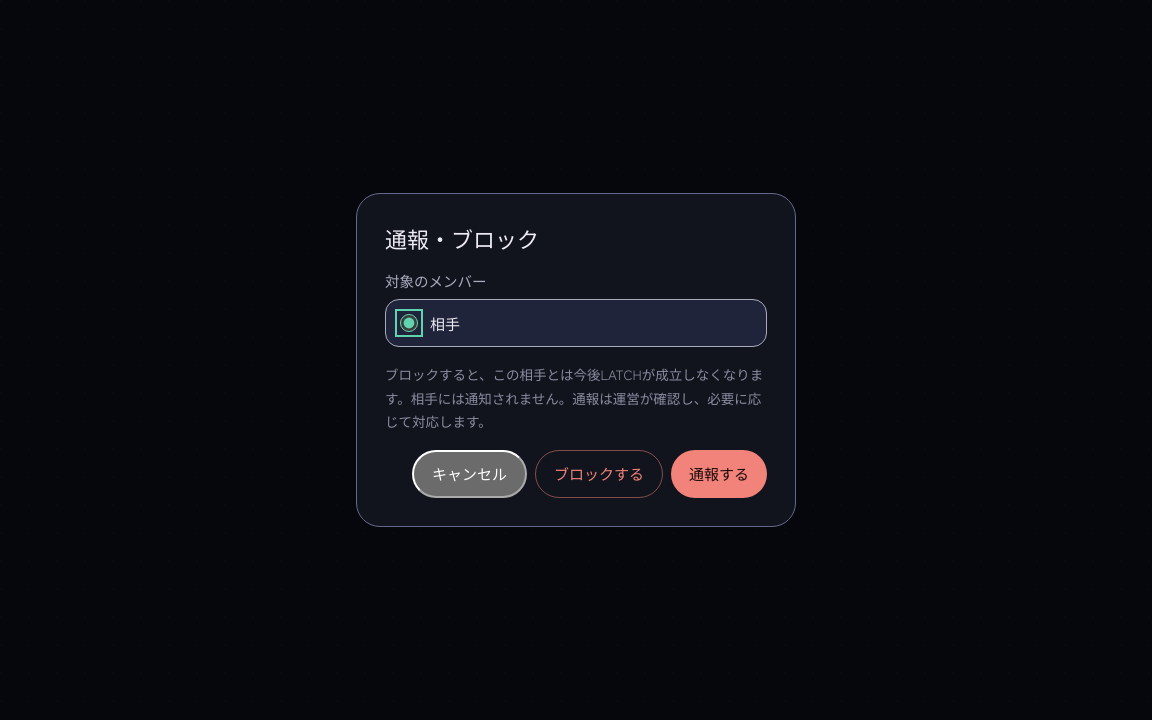
Scenario: 通報・ブロック統合dialog(D-09・プロトタイプ05) › 成立済み1対1: 対象は相手で選択済み・ブロックでPOST /v1/users/{id}/block
Expected: the heading "通報・ブロック" is shown, [385, 228, 539, 253]
Expected: the dialog with id "safetyDialog" shows "相手", [430, 313, 460, 334]
Click the button "ブロックする" at (599, 474), box [535, 450, 663, 498]
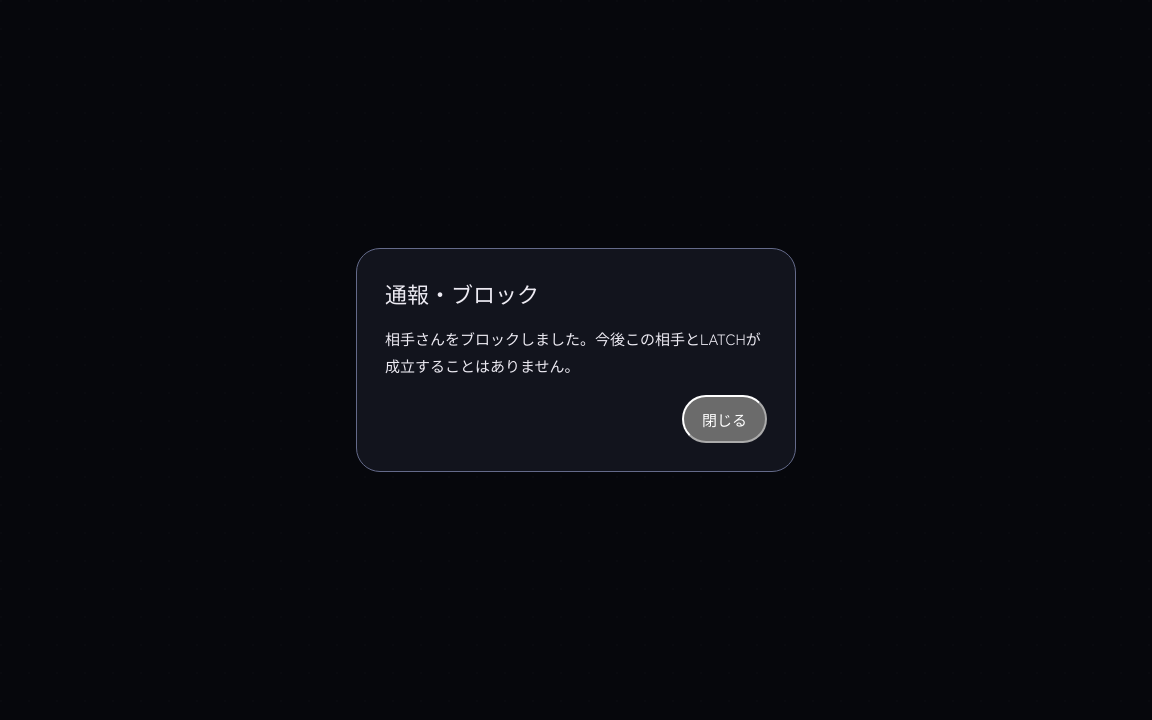
Expected: the message "相手さんをブロックしました。今後この相手とLATCHが成立することはありません。" is shown, [385, 325, 767, 379]
